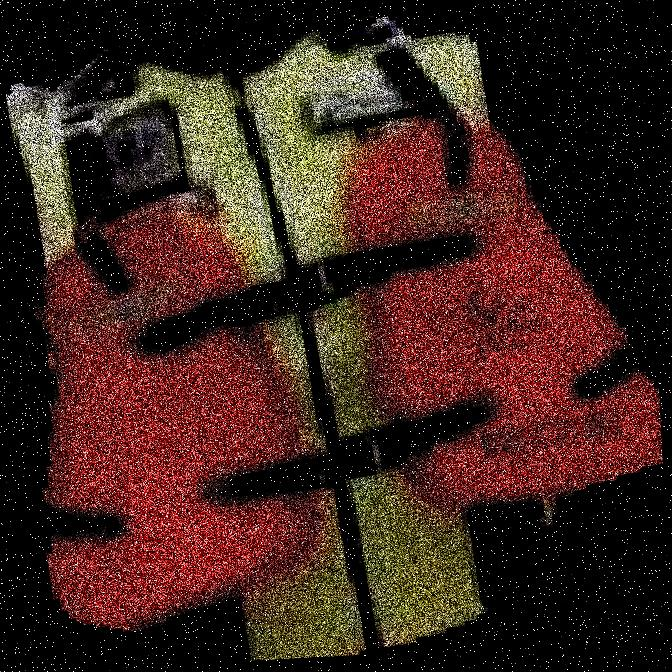Colete: (84, 0, 476, 671)
